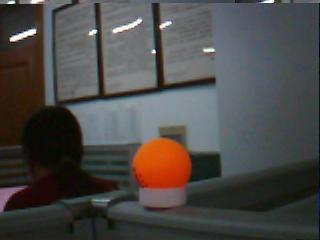oball: (132, 136, 192, 188)
